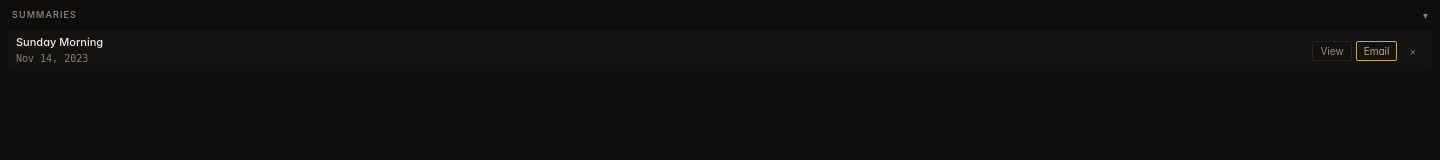
Scenario: SummaryPanel › shows warning when no subscribers found
Click the button titled "Send to email subscribers".
click(1376, 51)  # box [1356,41,1397,61]
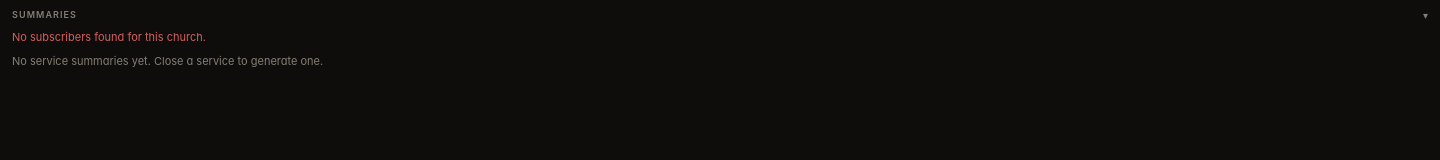
Now the text "No subscribers found for this church." is shown, box [12,30,206,44]
